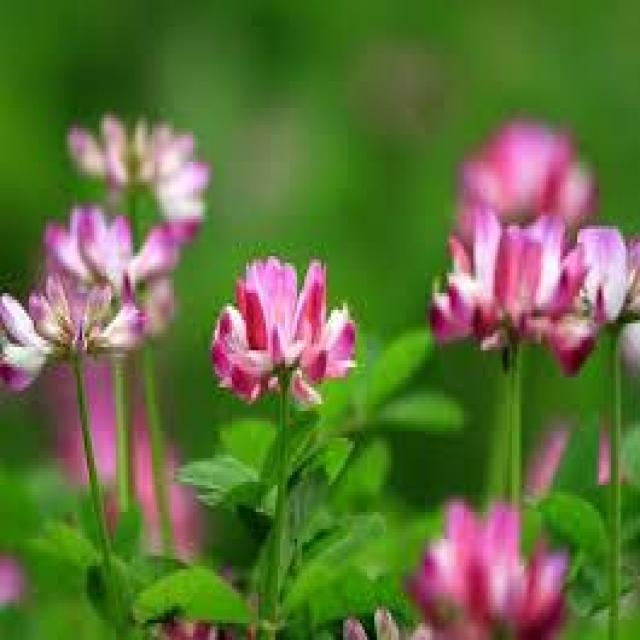organic waste: (424, 192, 602, 360), (394, 493, 570, 635), (200, 261, 363, 409), (0, 290, 155, 344)
